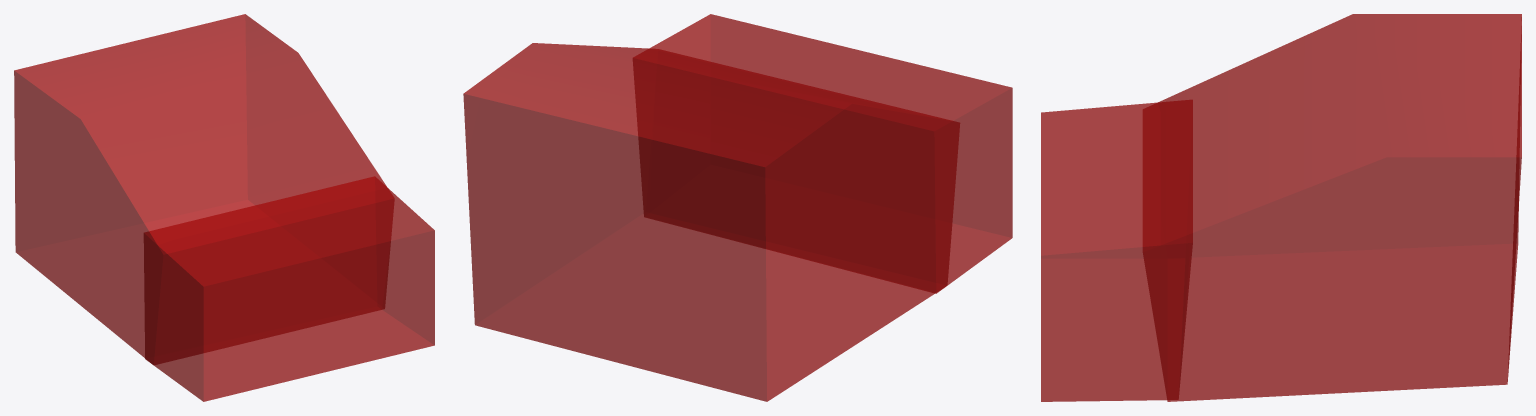
Rendered from SM_Env_Rock_Stairs_01_Collision.fbx.
3 views of the same model, side by side, from view 1: azimuth 30°, elevation 25°; view 2: azimuth 150°, elevation 25°; view 3: azimuth 270°, elevation 25° (orthographic). The views are drawn at different scales.
Parts seen in each view (by area): view 1: SM_Env_Rock_Stairs_01_Collision; view 2: SM_Env_Rock_Stairs_01_Collision; view 3: SM_Env_Rock_Stairs_01_Collision.
Boxes of the visible parts, x1,y1,x2,y2 form: SM_Env_Rock_Stairs_01_Collision: (14, 14, 434, 401); SM_Env_Rock_Stairs_01_Collision: (463, 14, 1012, 401); SM_Env_Rock_Stairs_01_Collision: (1041, 14, 1521, 401).
Size of the model in its own units: 317 by 253 by 450.
